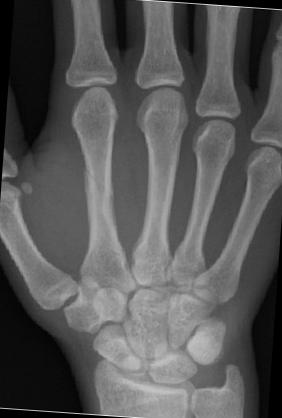fracture: (82, 168, 118, 202)
